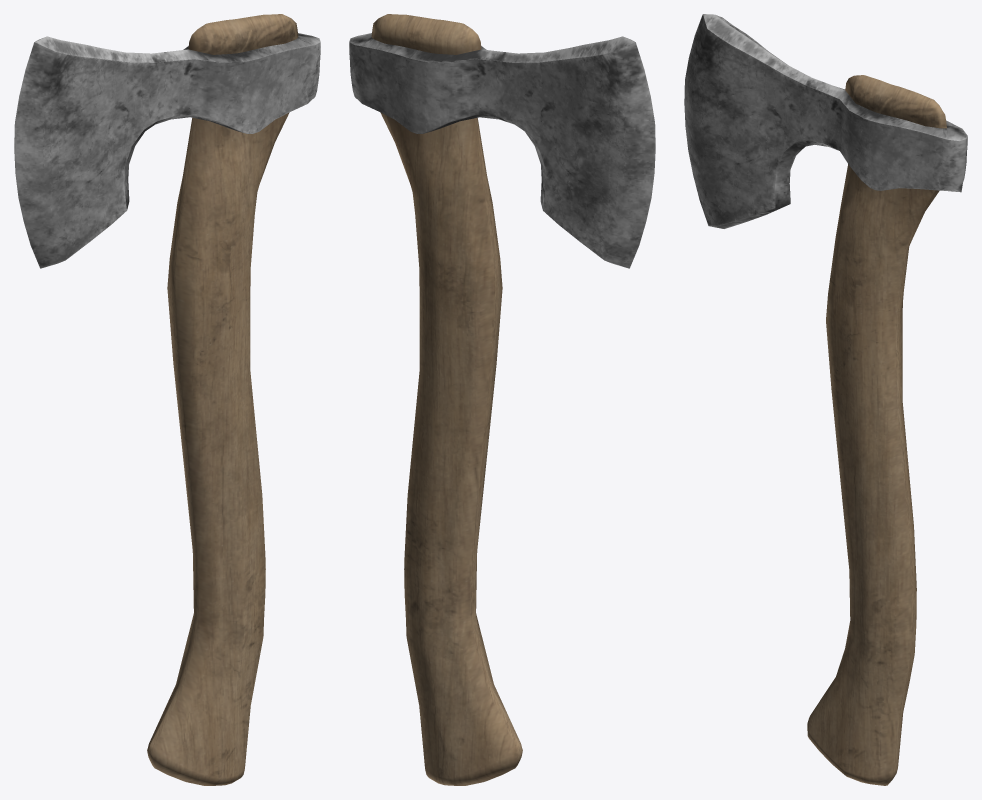
The model's file is Axe_Final.fbx.
3 renders of one model, left to right at view 1: azimuth 30°, elevation 25°; view 2: azimuth 150°, elevation 25°; view 3: azimuth 330°, elevation 25°, orthographic. The views are drawn at different scales.
Parts seen in each view (by area): view 1: pCube1; view 2: pCube1; view 3: pCube1.
Part boxes in pixels (box(x1,y1,x2,y2)): pCube1: box(14, 14, 320, 785); pCube1: box(349, 14, 655, 785); pCube1: box(684, 14, 967, 785).
Bounding box in the file's own units: 0.0543 × 0.1343 × 0.0103.
2 materials, 2 textured.
